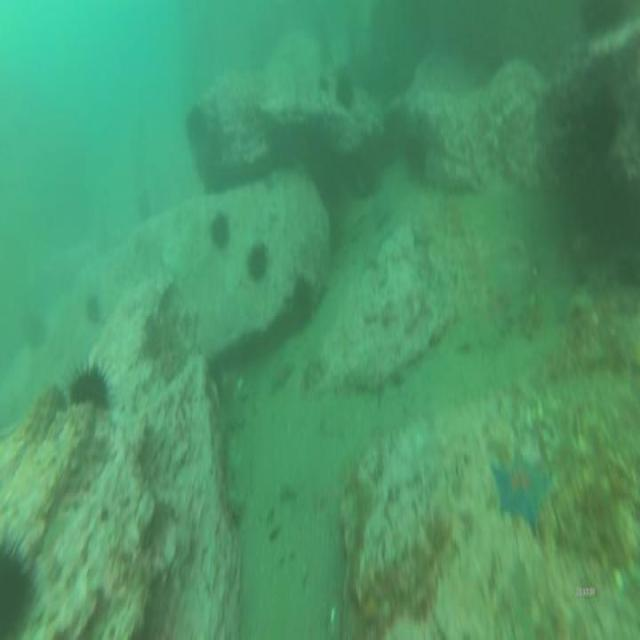echinus: (0, 515, 44, 638), (56, 352, 120, 419), (243, 235, 271, 288), (208, 207, 233, 254)
starfish: (486, 442, 555, 540)
